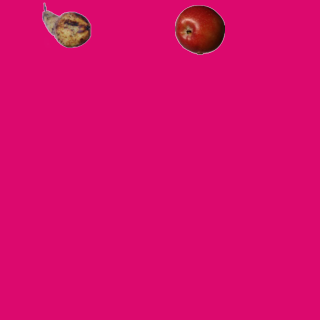Apple Braeburn: (174, 4, 224, 54)
Pear Abate: (41, 0, 91, 50)
